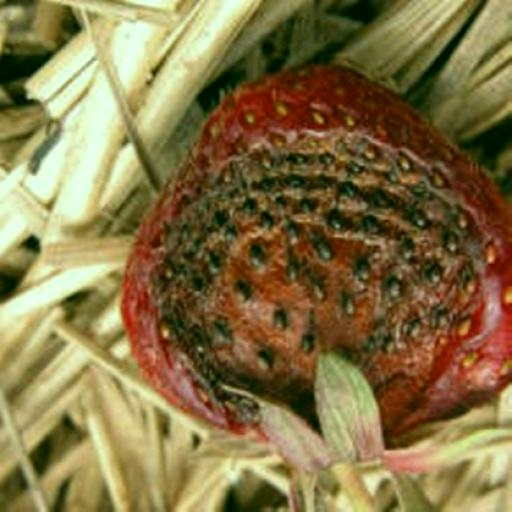Anthracnose Fruit Rot: (13, 75, 371, 384)
